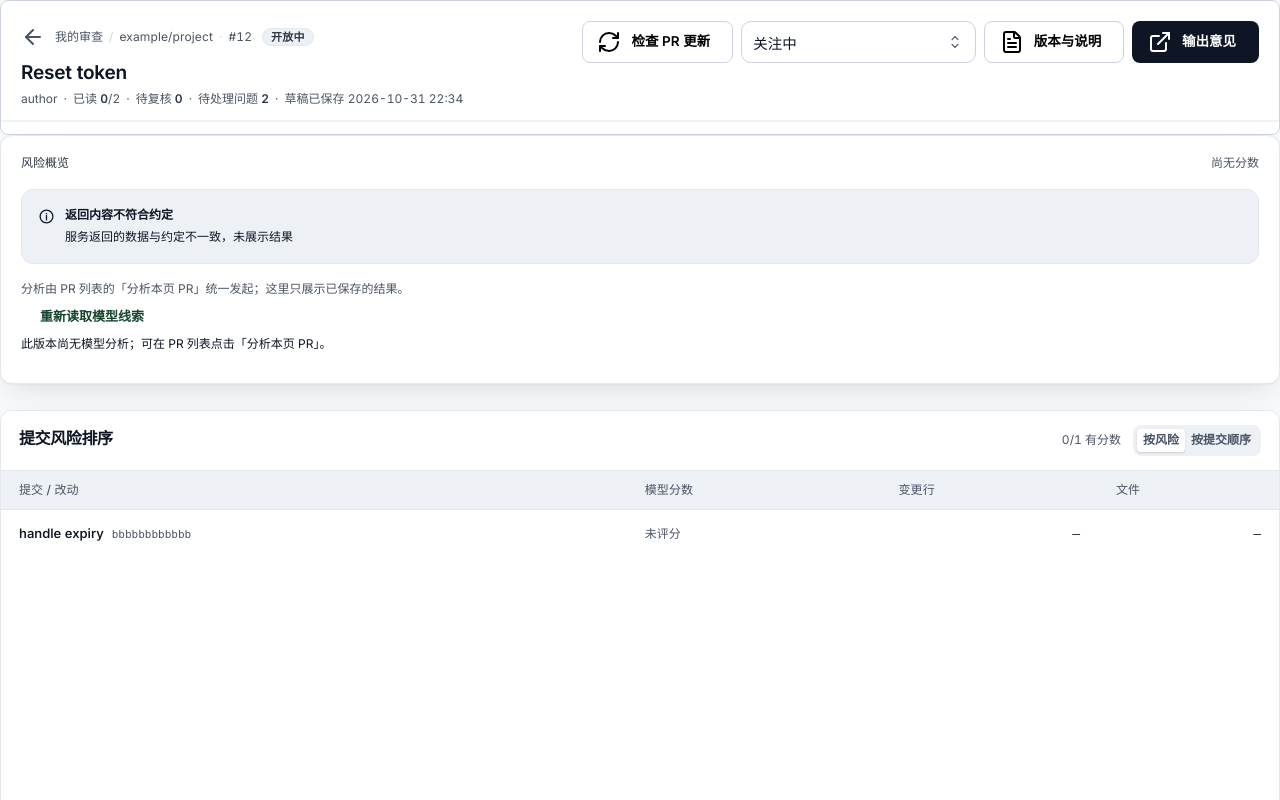
Test: updates a version without resolving old questions and restores the old round
Check: the heading "提交风险排序" is shown, box [19, 427, 113, 450]
Click the button "检查 PR 更新": (658, 42) [582, 21, 733, 63]
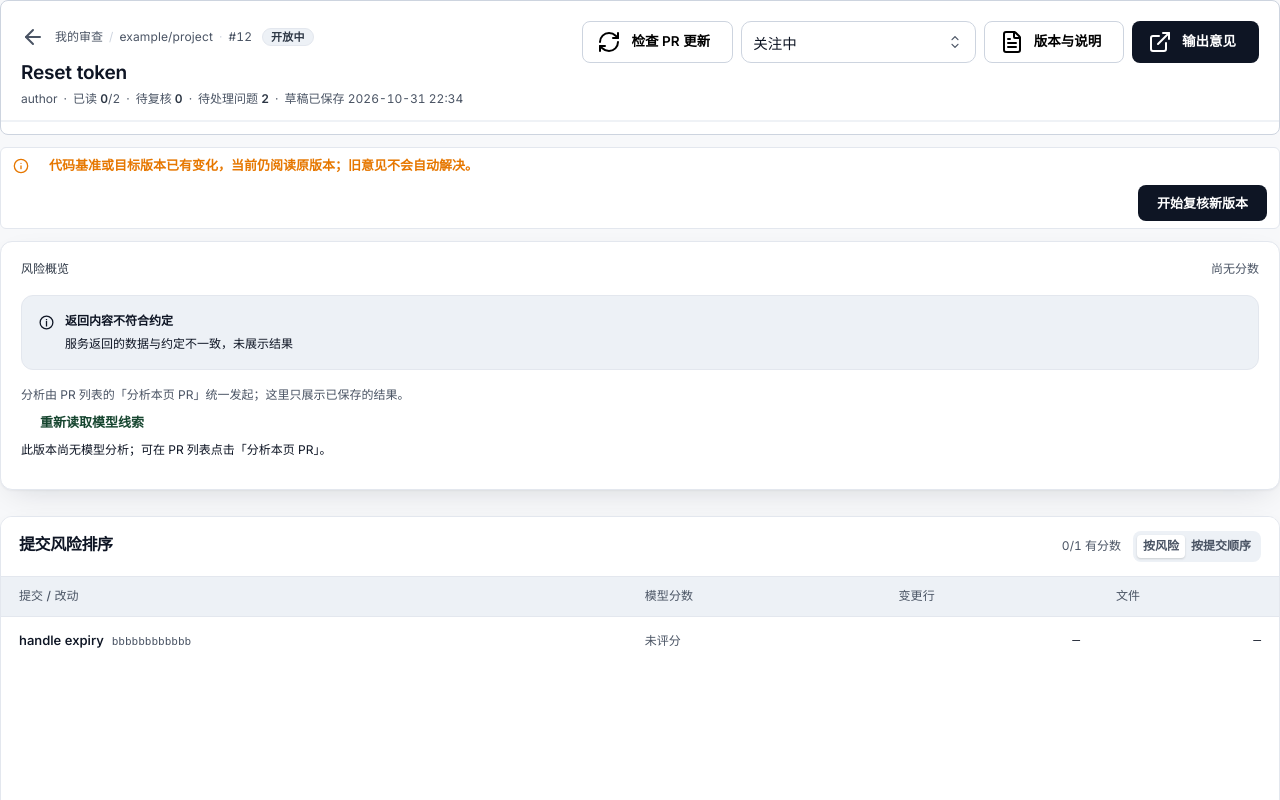
Check: the button "开始复核新版本" is shown, box [1138, 185, 1267, 221]
